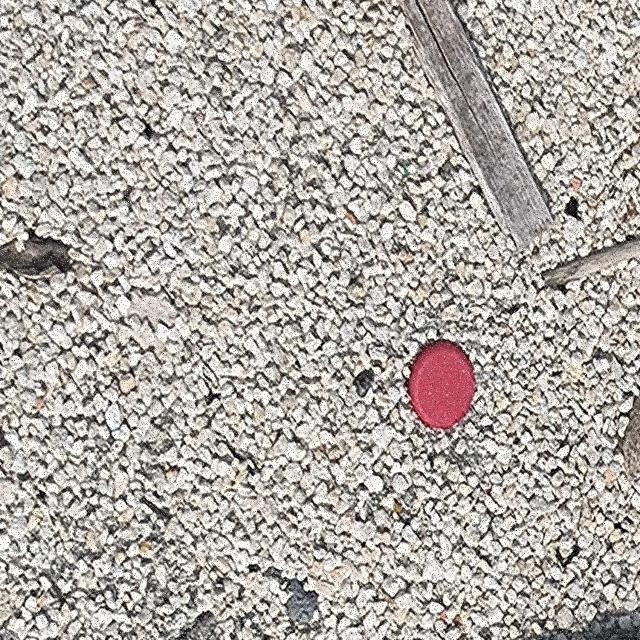plastic_waste: (408, 340, 477, 432)
